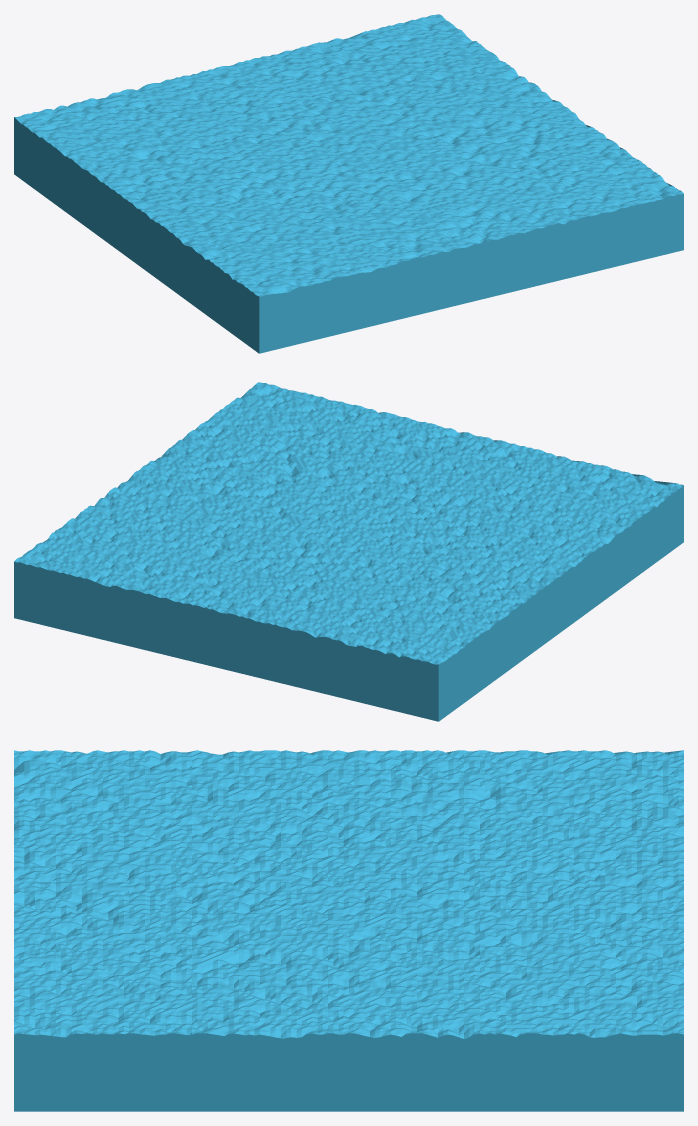
The model's file is sea.fbx.
3 views of the same model, one above another, from view 1: azimuth 30°, elevation 25°; view 2: azimuth 150°, elevation 25°; view 3: azimuth 270°, elevation 25° (orthographic). The views are drawn at different scales.
Parts seen in each view (by area): view 1: sea; view 2: sea; view 3: sea.
Part boxes in pixels (bbox=[...]): sea: bbox=[14, 14, 683, 353]; sea: bbox=[14, 382, 683, 721]; sea: bbox=[14, 750, 683, 1111].
Bounding box in the file's own units: 720 × 92.8 × 720.
